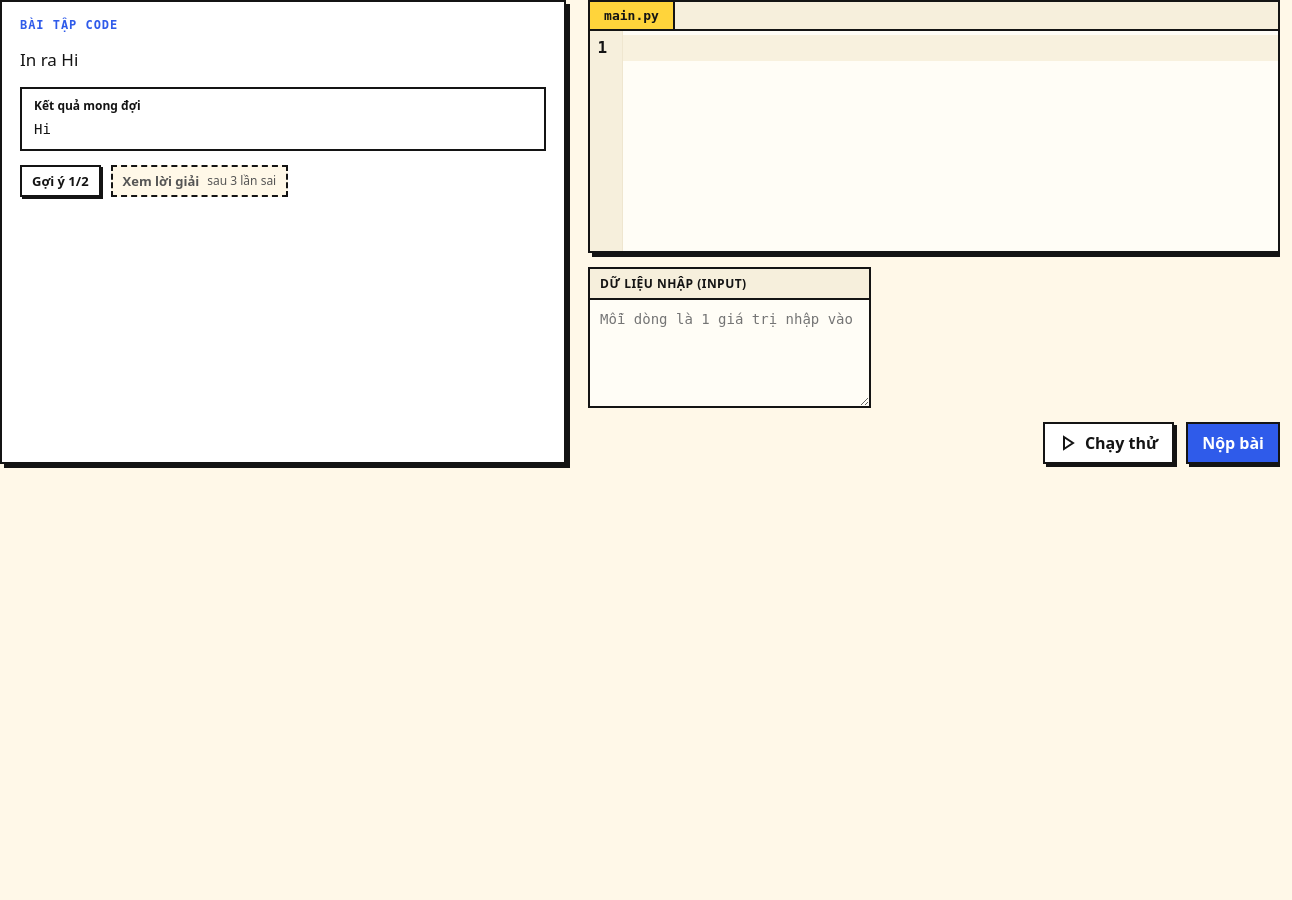
it: CodeExerciseView › Submit shows the failed tests without leaking hidden data
The image size is (1292, 900).
Click the button "Nộp bài".
click(1233, 443)  # box [1186, 422, 1280, 464]
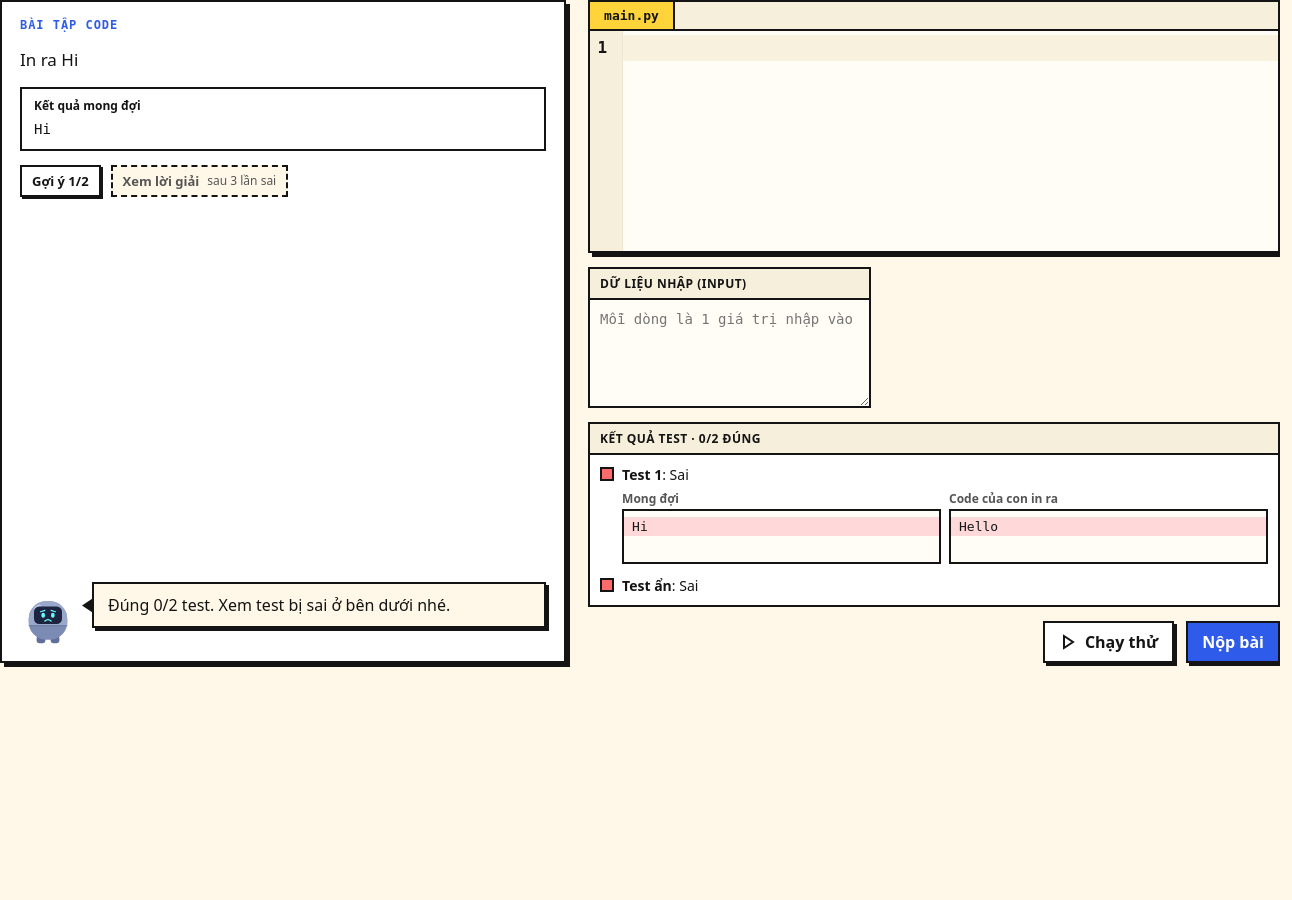
Expected: the text "Đúng 0/2 test. Xem test bị sai ở bên dưới nhé." is shown, [108, 594, 450, 616]
Expected: the text "Mong đợi" is shown once, [622, 490, 679, 507]
Expected: the text "Code của con in ra" is shown once, [949, 490, 1058, 507]
